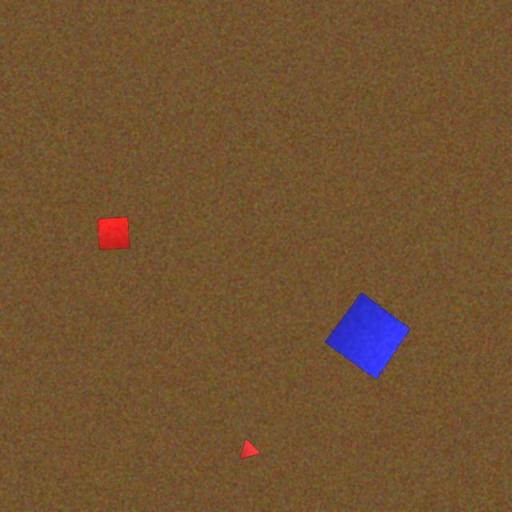BLUE_SQUARE: (324, 291, 411, 380)
RED_SQUARE: (97, 216, 130, 250)
